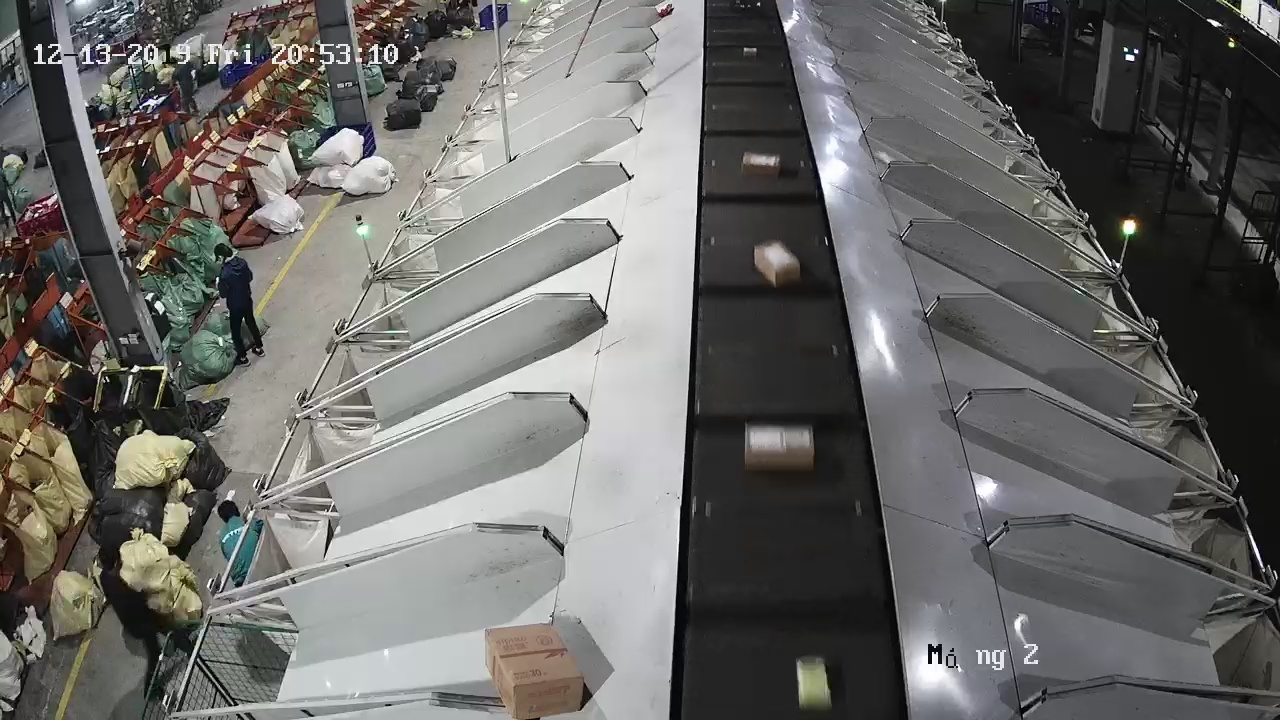parcel: (871, 148, 892, 163)
